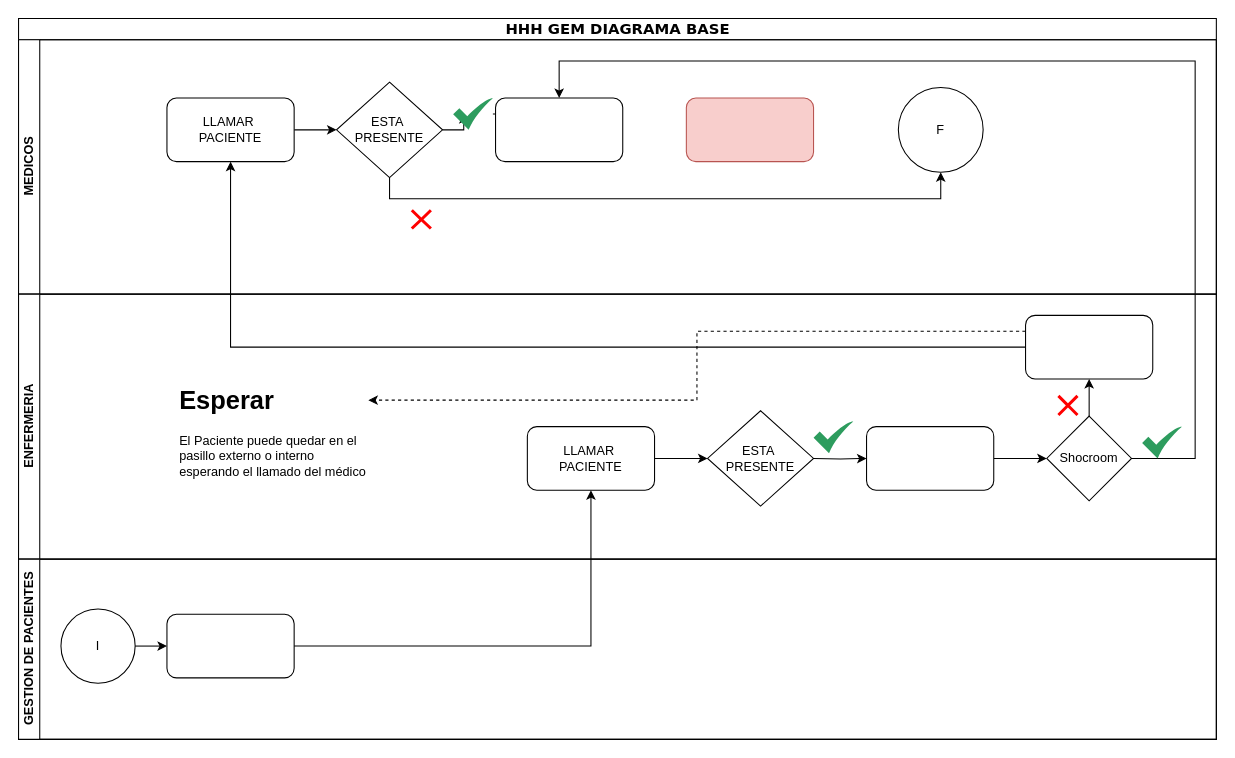
The diagram is 1235 pixels wide and 758 high, and some of its shapes have lost their labels. Here are the shapes that lost their labels. From the top down, the centre of each, then its label:
the point at 558,129: ATENDER PACIETNE
the point at 749,129: reflejar procesos
the point at 1088,346: ESPERAR ATENCION MEDICA
the point at 929,458: REALIZAR TRIAJE
the point at 230,645: RECEPCIONAR PACIENTES
